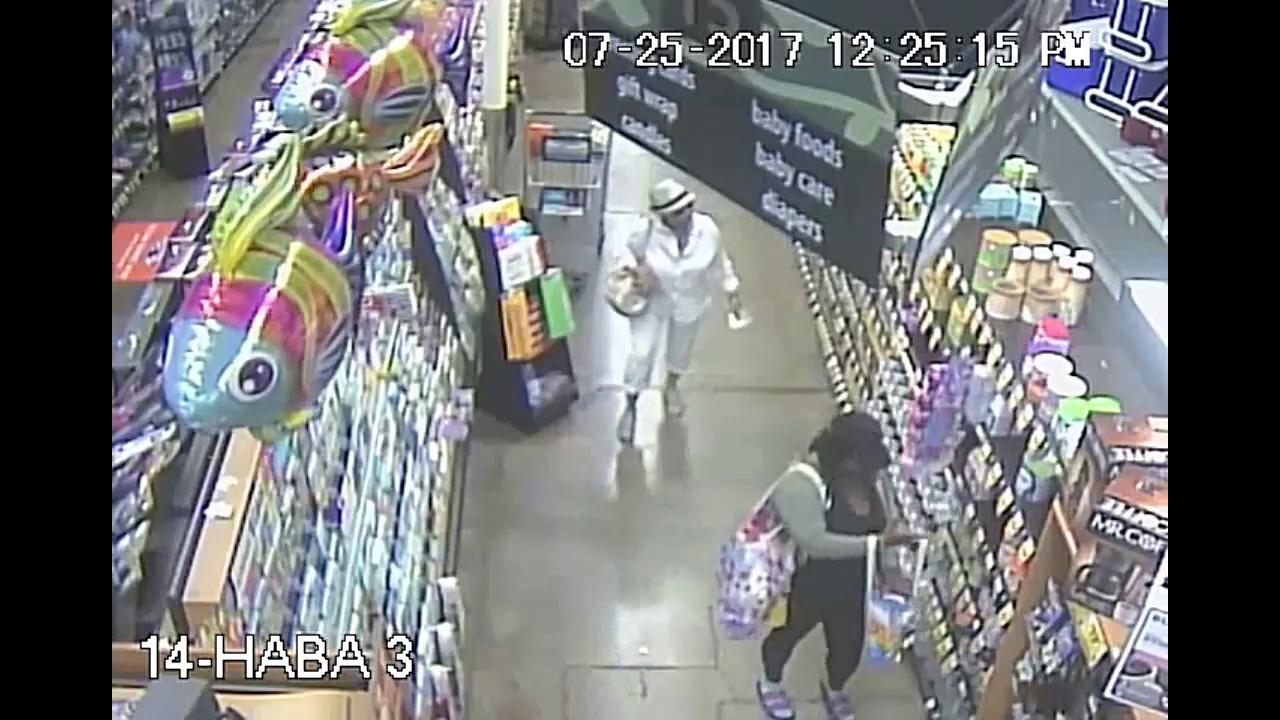3: (594, 154, 763, 482)
4: (691, 387, 970, 720)
persone: (716, 509, 788, 641), (863, 537, 928, 665), (604, 261, 653, 325)
